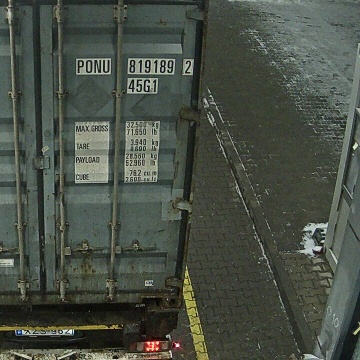serial_id: (77, 59, 191, 73)
